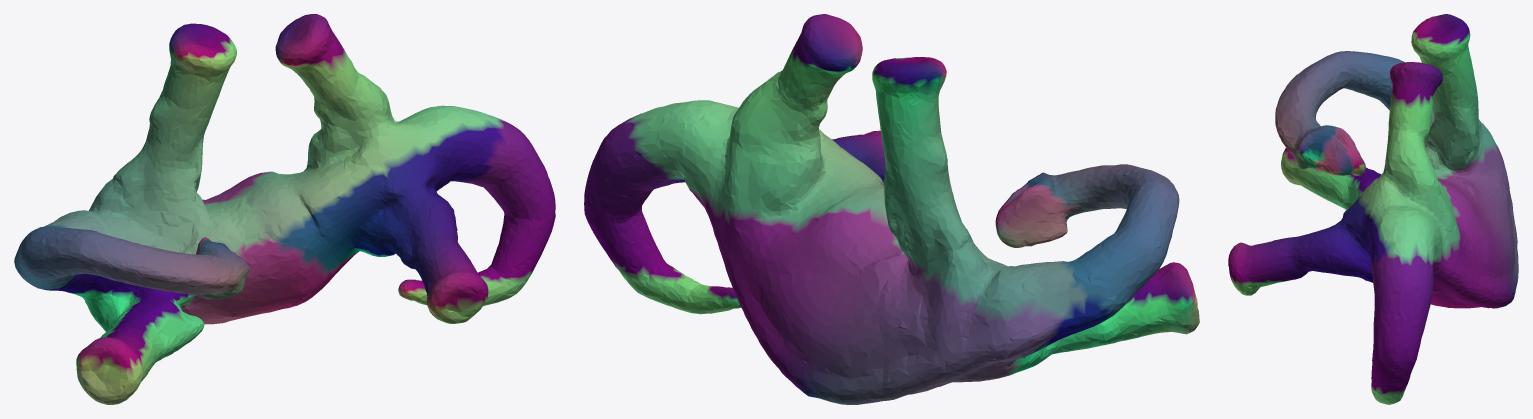
The model's file is dinosaur-6.off.obj.
3 views of the same model, side by side, from view 1: azimuth 30°, elevation 25°; view 2: azimuth 150°, elevation 25°; view 3: azimuth 270°, elevation 25° (orthographic). The views are drawn at different scales.
Bounding box in the file's own units: 1.65 × 0.9343 × 0.9078.
